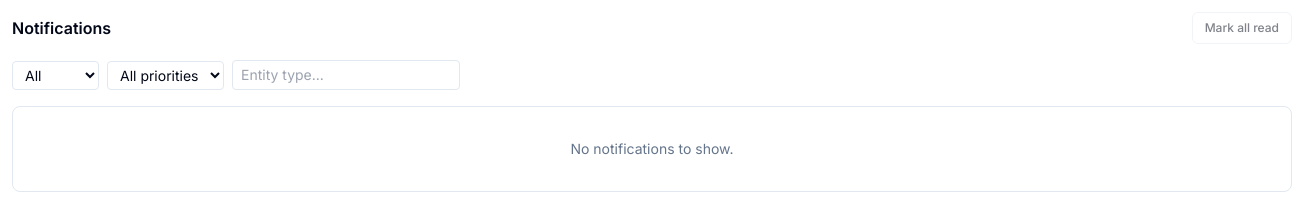
Test case: NotificationPage › filters › shows clear button after setting priority filter
Select "Urgent" in the dropdown with test id "filter-priority" at (166, 75), box [107, 60, 224, 90]
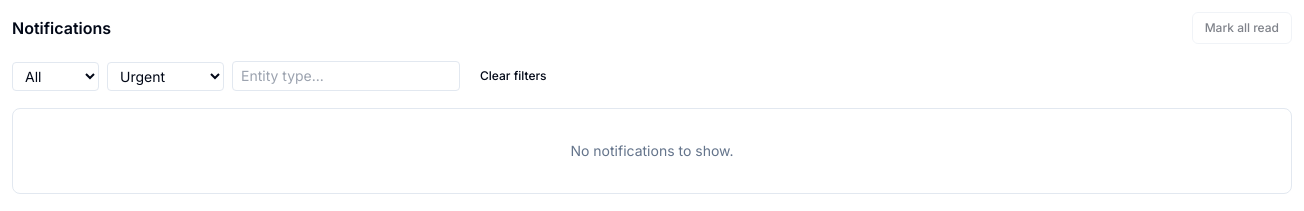
Now the button with test id "clear-filters-btn" is shown, box [468, 60, 559, 92]
